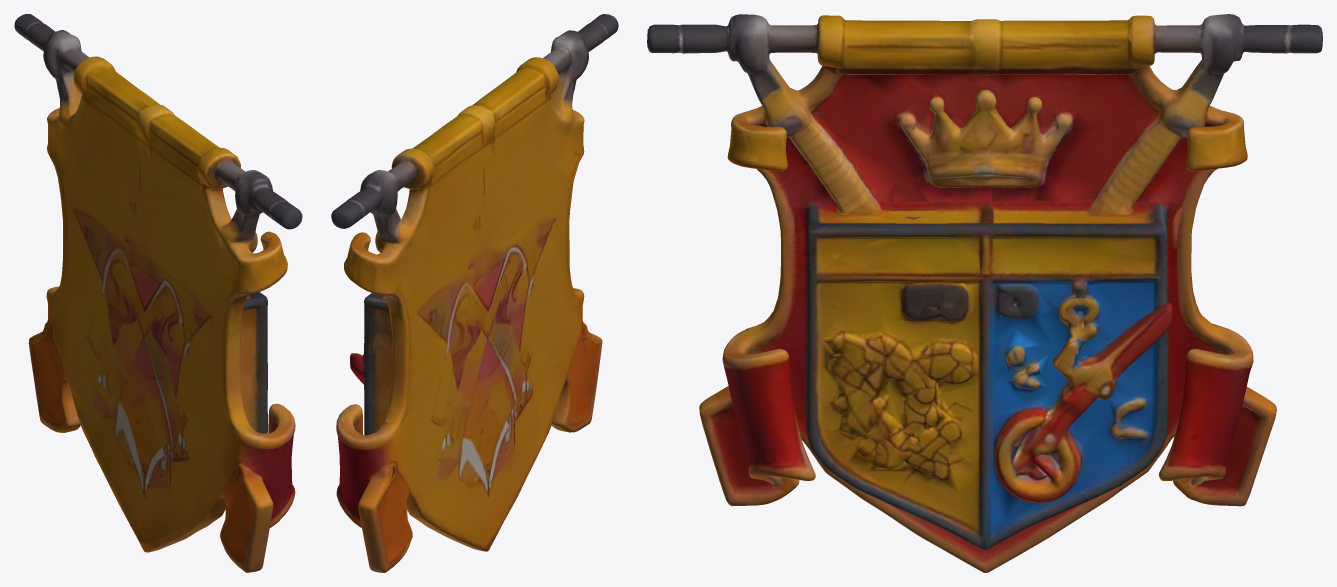
Rendered from guild_banner_safety.glb.
3 views of the same model, side by side, from view 1: azimuth 30°, elevation 25°; view 2: azimuth 150°, elevation 25°; view 3: azimuth 270°, elevation 25° (orthographic). The views are drawn at different scales.
Visible parts, largest first — view 1: tripo_node_768fc0c5-c80d-4c0a-b4a7-1b6fcac39cec; view 2: tripo_node_768fc0c5-c80d-4c0a-b4a7-1b6fcac39cec; view 3: tripo_node_768fc0c5-c80d-4c0a-b4a7-1b6fcac39cec.
Boxes of the visible parts, x1,y1,x2,y2 form: tripo_node_768fc0c5-c80d-4c0a-b4a7-1b6fcac39cec: [14, 14, 302, 572]; tripo_node_768fc0c5-c80d-4c0a-b4a7-1b6fcac39cec: [331, 14, 618, 572]; tripo_node_768fc0c5-c80d-4c0a-b4a7-1b6fcac39cec: [647, 14, 1322, 572].
Size of the model in its own units: 0.1487 by 0.8617 by 0.947.
1 material, 1 textured.
